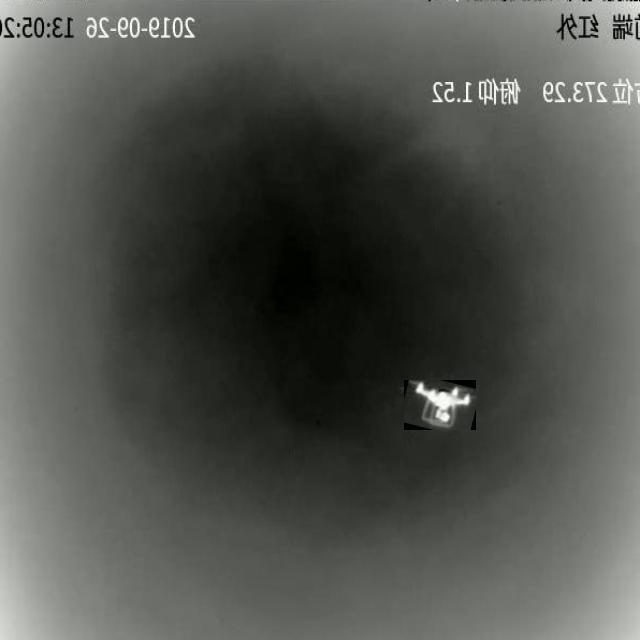drone: (404, 380, 476, 430)
